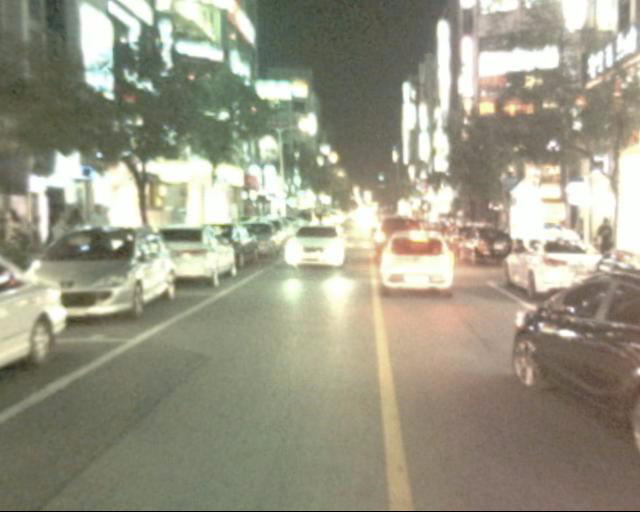person: (3, 187, 109, 237), (594, 211, 622, 274)
